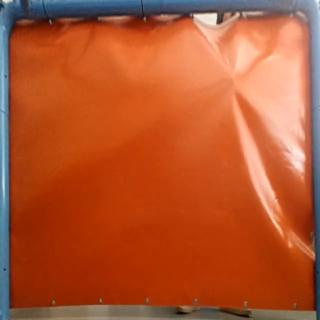Hit-hRxx: (228, 70, 244, 88)
